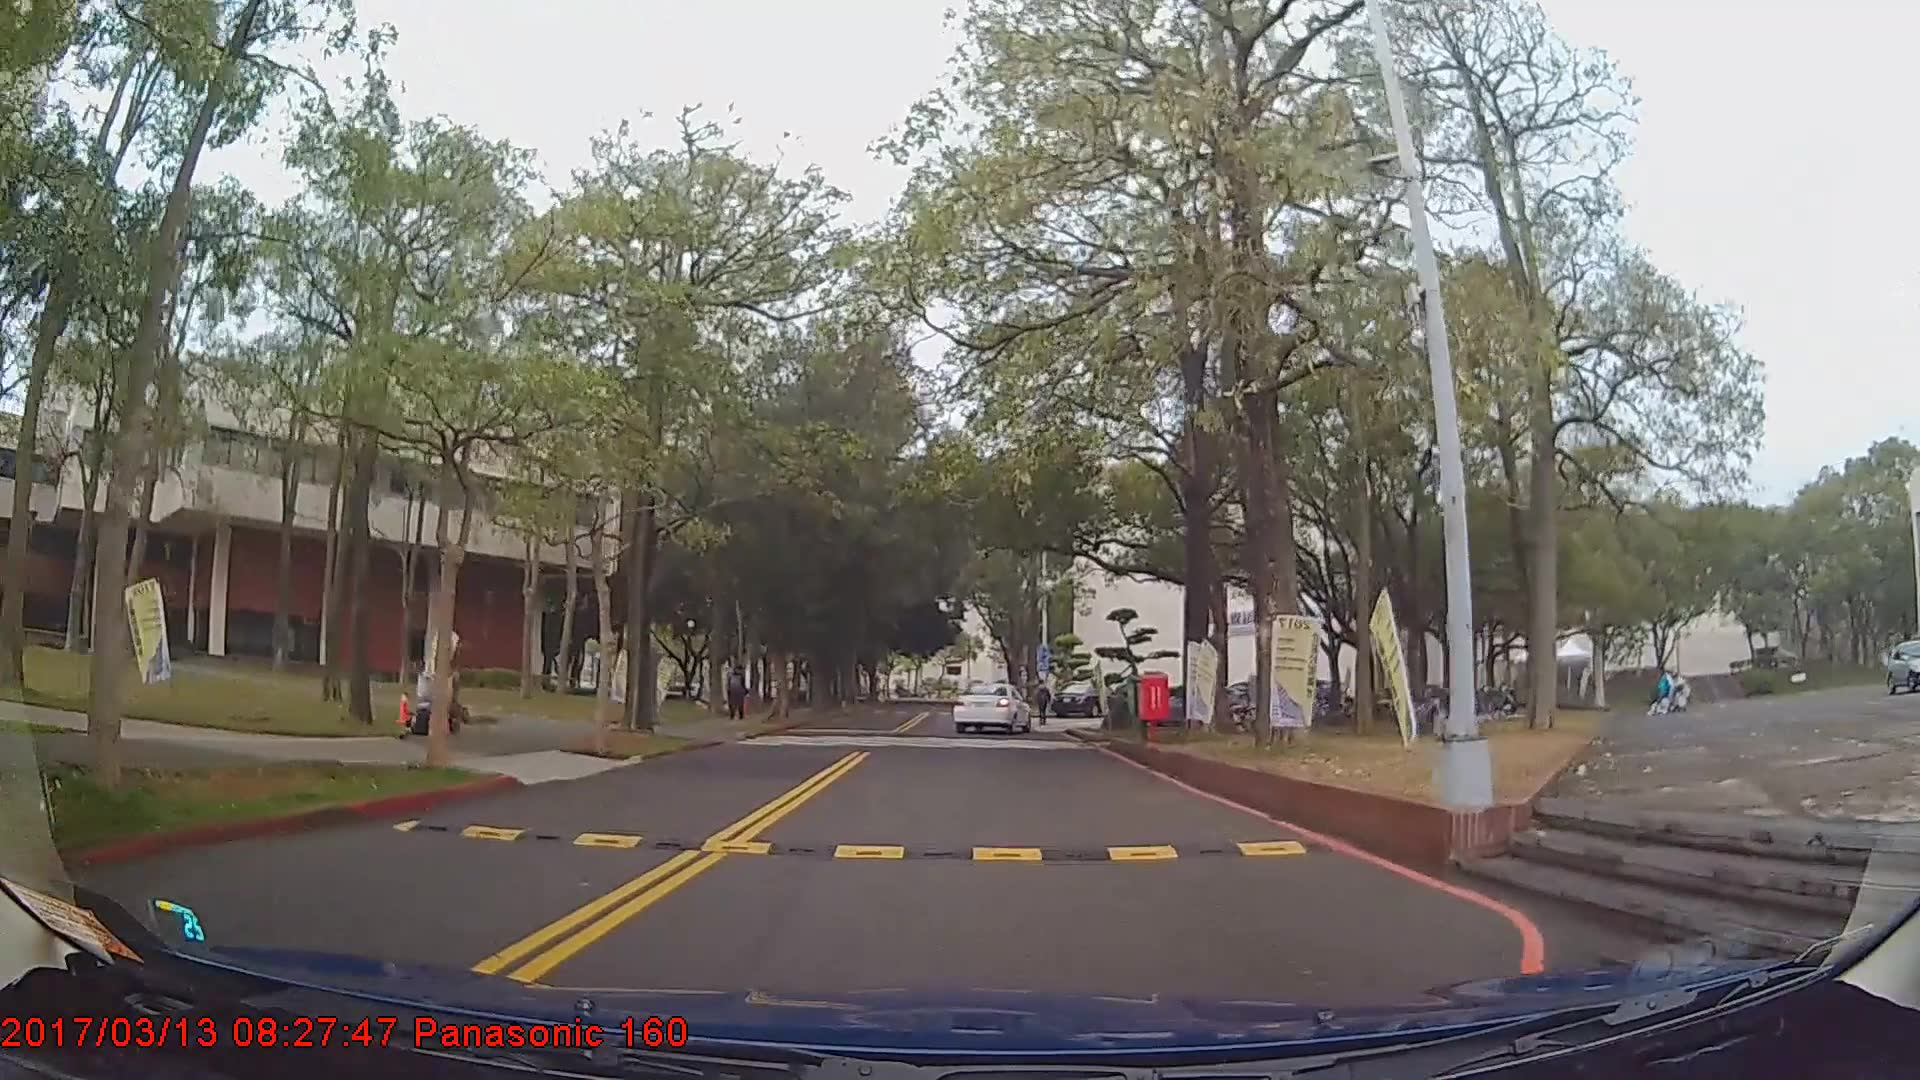pedestrian: (726, 663, 753, 727)
vehicle: (953, 681, 1031, 736), (1881, 639, 1920, 699), (1053, 683, 1113, 718)
